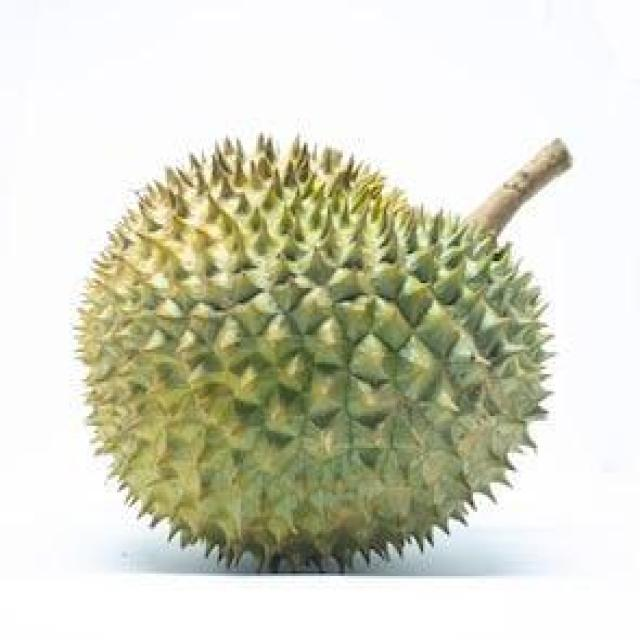immature: (77, 132, 556, 570)
